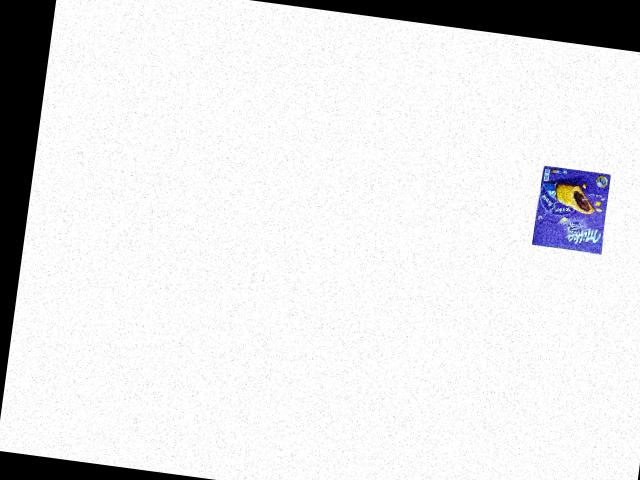chocolate: (528, 159, 616, 259)
